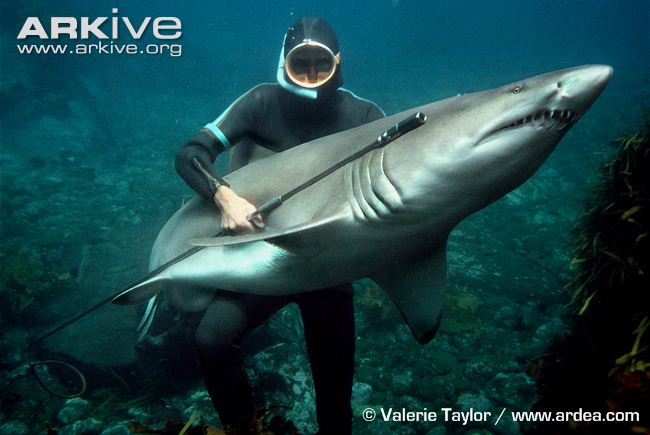shark: (106, 41, 620, 364)
